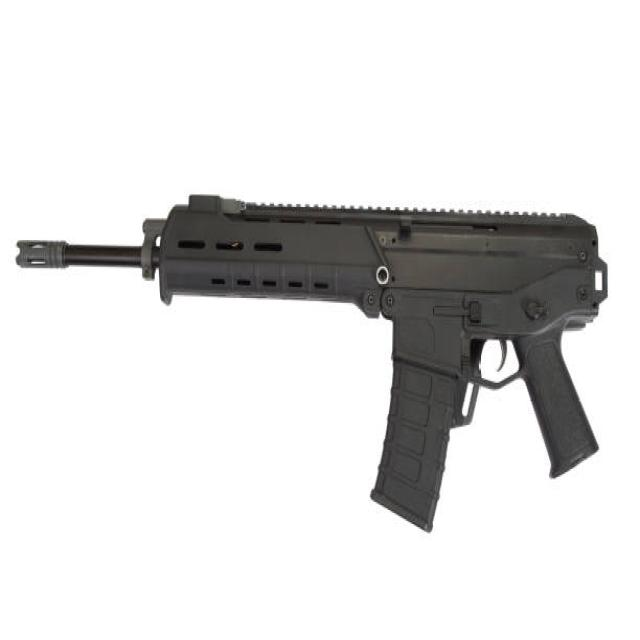rifle: (10, 187, 614, 546)
